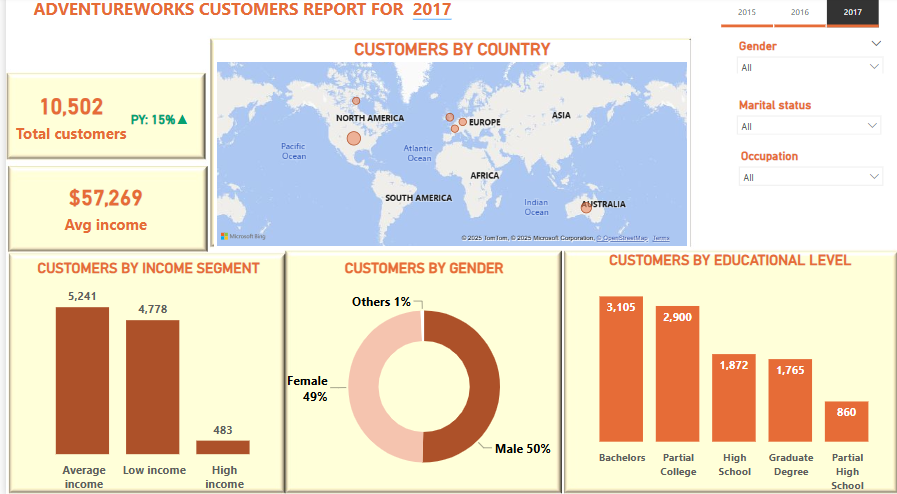

Layout of this report page (visuals, bound fields, positions):
{"tool":"powerbi","page":{"name":"Customers Report","canvas":[1280,720],"ordinal":0},"visuals":[{"type":"card","fields":{"Values":["DAX Measures.Total customers"]},"box":[0,115.2,185.8,115.2],"z":0},{"type":"card","fields":{"Values":["DAX Measures.Avg income"]},"box":[0,249.1,285.1,110.9],"z":1000},{"type":"slicer","fields":{"Values":["Calendar.Year"]},"box":[995,0,275,56.2],"z":2000},{"type":"card","fields":{"Values":["DAX Measures.Customer growth %"]},"box":[142.6,139.7,154.1,82.1],"z":3000},{"type":"map","title":"CUSTOMERS BY COUNTRY","fields":{"Size":["DAX Measures.Total customers"],"Category":["AdventureWorks_Territories.Country"]},"box":[296.6,67.7,681.1,299.5],"z":4000},{"type":"columnChart","title":"CUSTOMERS BY INCOME SEGMENT","fields":{"Y":["DAX Measures.Total customers"],"Category":["AdventureWorks_Customers.IncomeSegment"]},"box":[10.1,381.6,387.4,338.4],"z":5000},{"type":"columnChart","title":"CUSTOMERS BY EDUCATIONAL LEVEL","fields":{"Category":["AdventureWorks_Customers.EducationalLevel"],"Y":["DAX Measures.Total customers"]},"box":[797.8,370.1,472.3,349.9],"z":6000},{"type":"donutChart","title":"CUSTOMERS BY GENDER","fields":{"Category":["AdventureWorks_Customers.Gender"],"Y":["DAX Measures.Total customers"]},"box":[397.4,381.6,400.3,338.4],"z":7000},{"type":"slicer","fields":{"Values":["AdventureWorks_Customers.Gender"]},"box":[1033.9,60.5,229,54.7],"z":8000},{"type":"slicer","fields":{"Values":["AdventureWorks_Customers.MaritalStatus"]},"box":[1033.9,144,226.1,57.6],"z":9000},{"type":"slicer","fields":{"Values":["AdventureWorks_Customers.Occupation"]},"box":[1036.8,217.4,226.1,63.4],"z":10000},{"type":"textbox","box":[34.6,0,727.2,56.2],"z":11000}]}

Visuals, with their boxes in screenshot pixels (x1, y1, x2, y2), scaled from the page's 1280x720 canvas onto the 897x494 screenshot:
card - DAX Measures.Total customers: l=0, t=79, r=130, b=158
card - DAX Measures.Avg income: l=0, t=171, r=200, b=247
slicer - Calendar.Year: l=697, t=0, r=890, b=39
card - DAX Measures.Customer growth %: l=100, t=96, r=208, b=152
"CUSTOMERS BY COUNTRY" map: l=208, t=46, r=685, b=252
"CUSTOMERS BY INCOME SEGMENT" columnChart: l=7, t=262, r=279, b=493
"CUSTOMERS BY EDUCATIONAL LEVEL" columnChart: l=559, t=254, r=890, b=493
"CUSTOMERS BY GENDER" donutChart: l=278, t=262, r=559, b=493
slicer - AdventureWorks_Customers.Gender: l=725, t=42, r=885, b=79
slicer - AdventureWorks_Customers.MaritalStatus: l=725, t=99, r=883, b=138
slicer - AdventureWorks_Customers.Occupation: l=727, t=149, r=885, b=193
textbox: l=24, t=0, r=534, b=39
